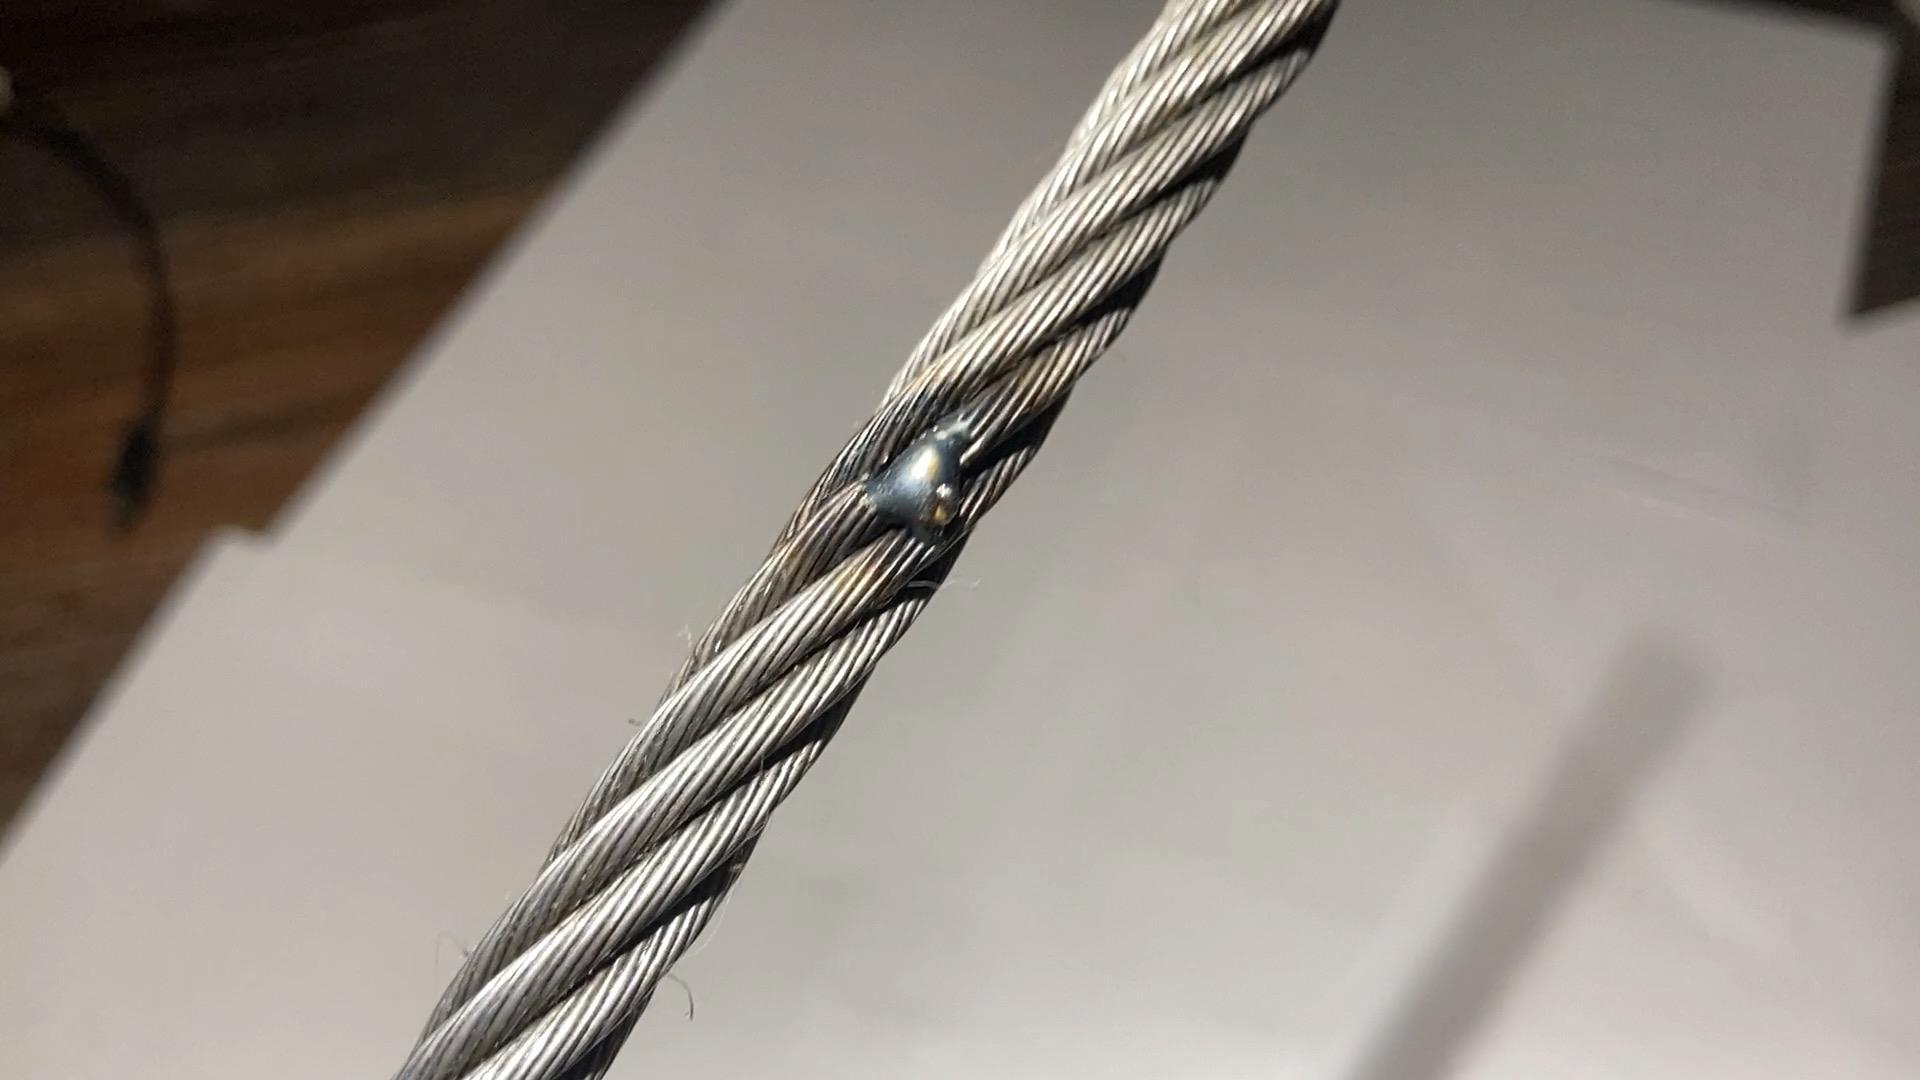thunderbolt: (861, 410, 1014, 556)
